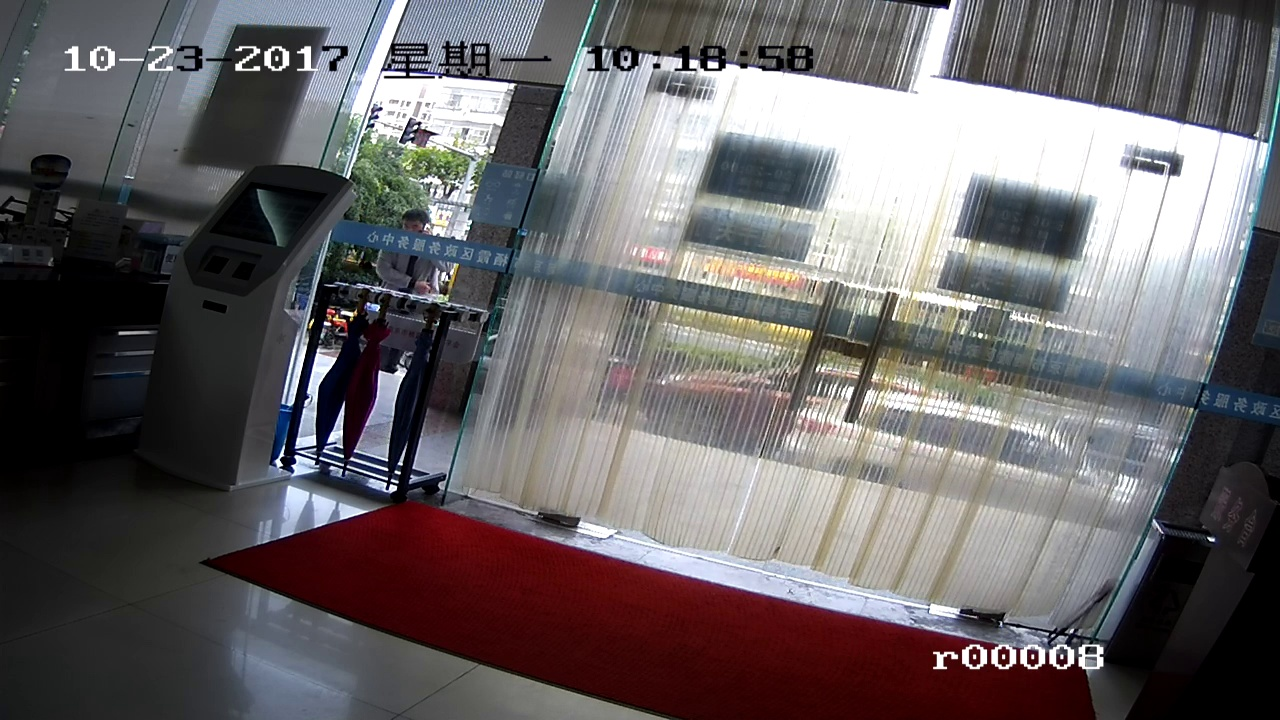billboard: (480, 166, 567, 232)
monitor: (225, 176, 305, 254)
